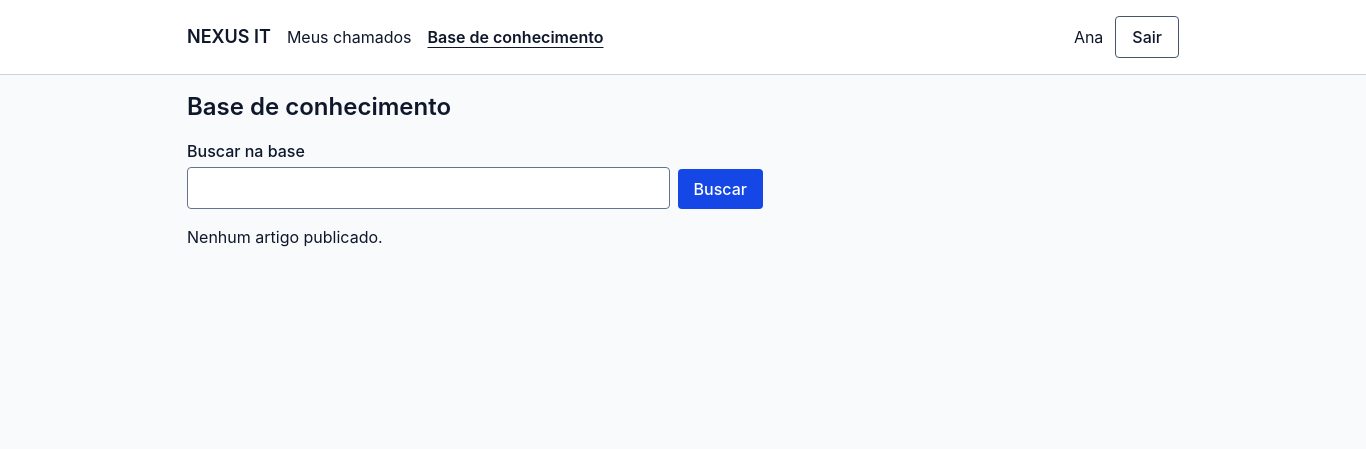
textos da base (NFR-06) › busca com 2 resultados usa o plural
Type "termo" into the search field labelled "Buscar na base" at (428,188), box top-left (187, 167), bottom-right (670, 209)
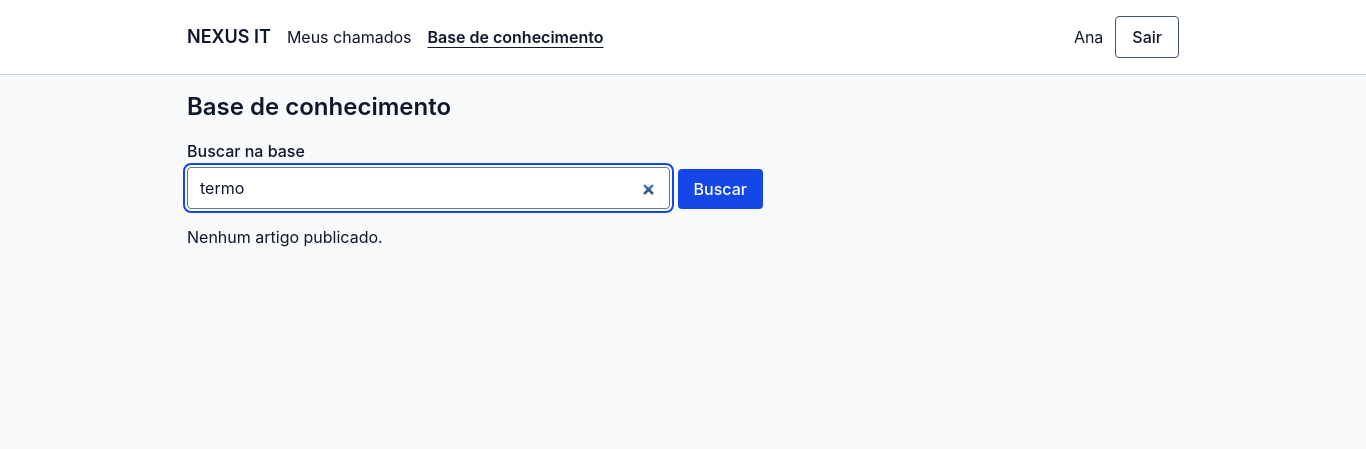
Click the button "Buscar" at (720,189), box top-left (678, 169), bottom-right (763, 209)
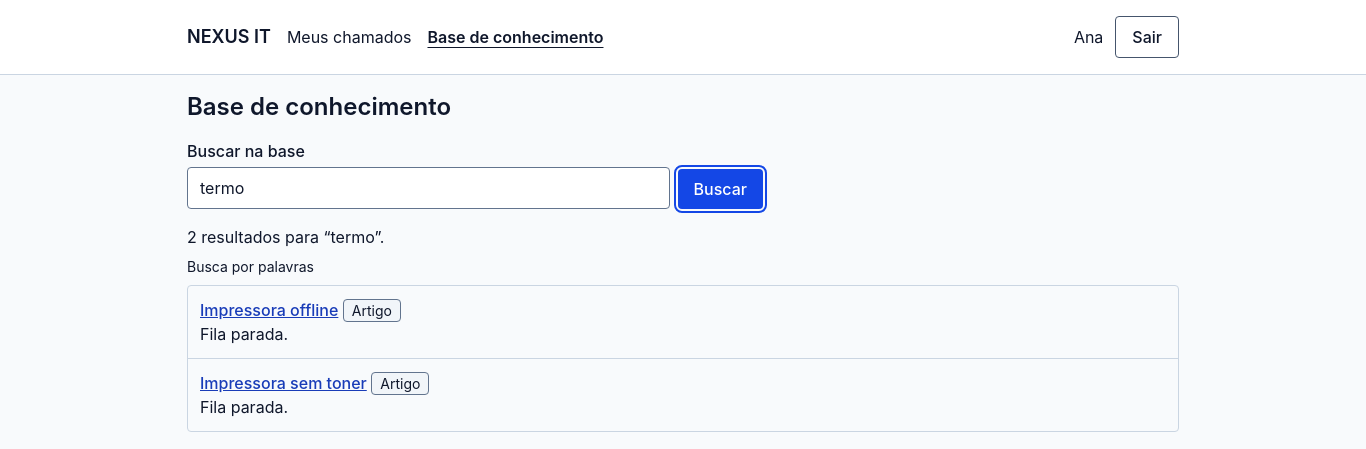
Expected: the link "Impressora sem toner" is shown, top-left (200, 373), bottom-right (367, 393)
Expected: the message reads "2 resultados para “termo”.", top-left (187, 227), bottom-right (384, 247)
